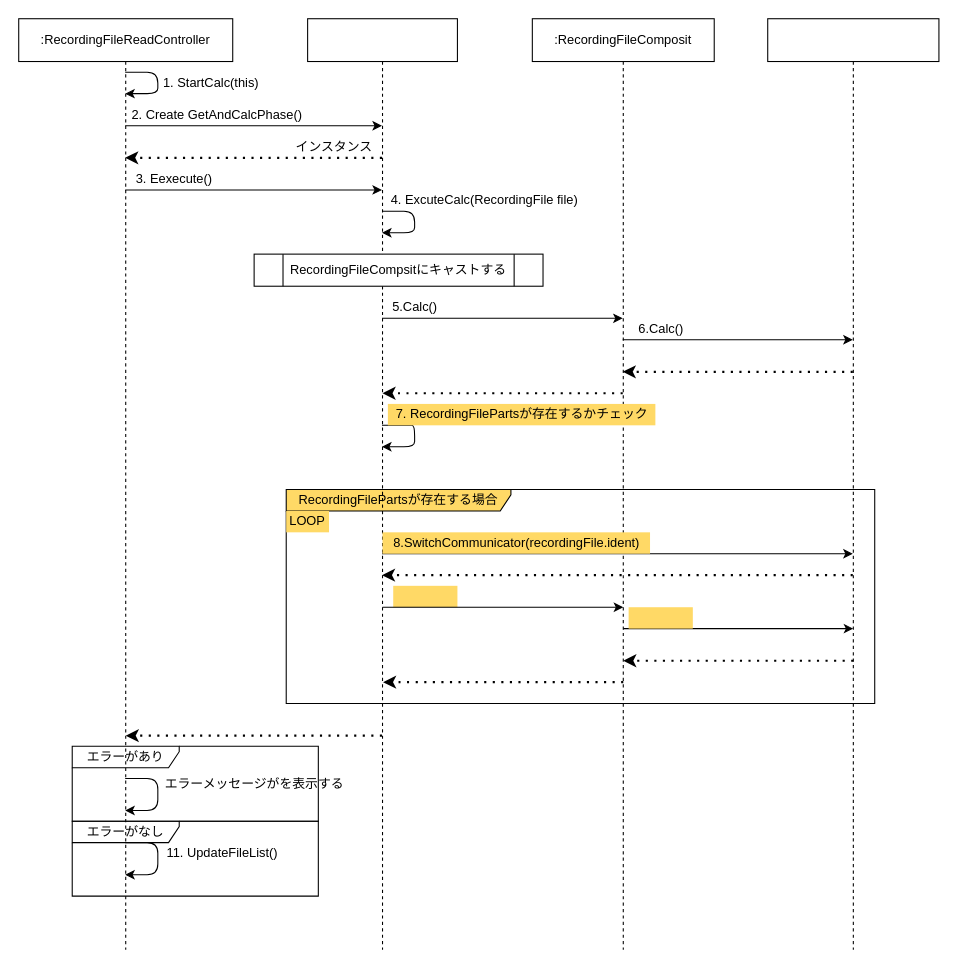
Some shapes in this 958 by 968 pixel diagram are drawn without their labels. Here are the shapes that lost their labels. From the top down, the box of each, then its label:
(307, 18, 457, 950): :GetAndCalcPhase
(767, 18, 939, 950): :CommunicationAccessor
(393, 585, 457, 607): 9.Calc()
(628, 607, 692, 628): 10.Calc()
